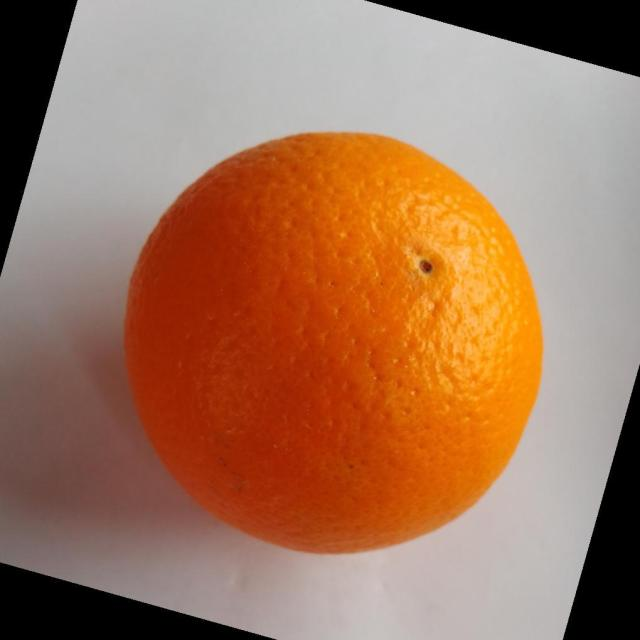fresh orange: (121, 130, 544, 556)
